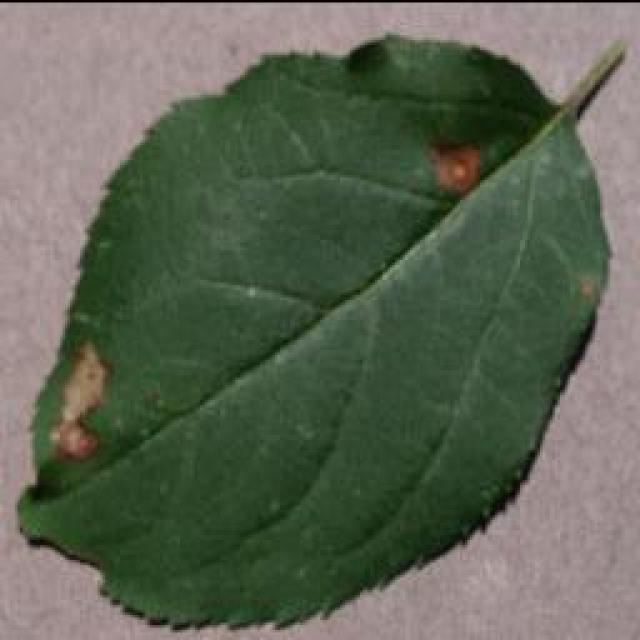Black_rot: (15, 30, 623, 632)
